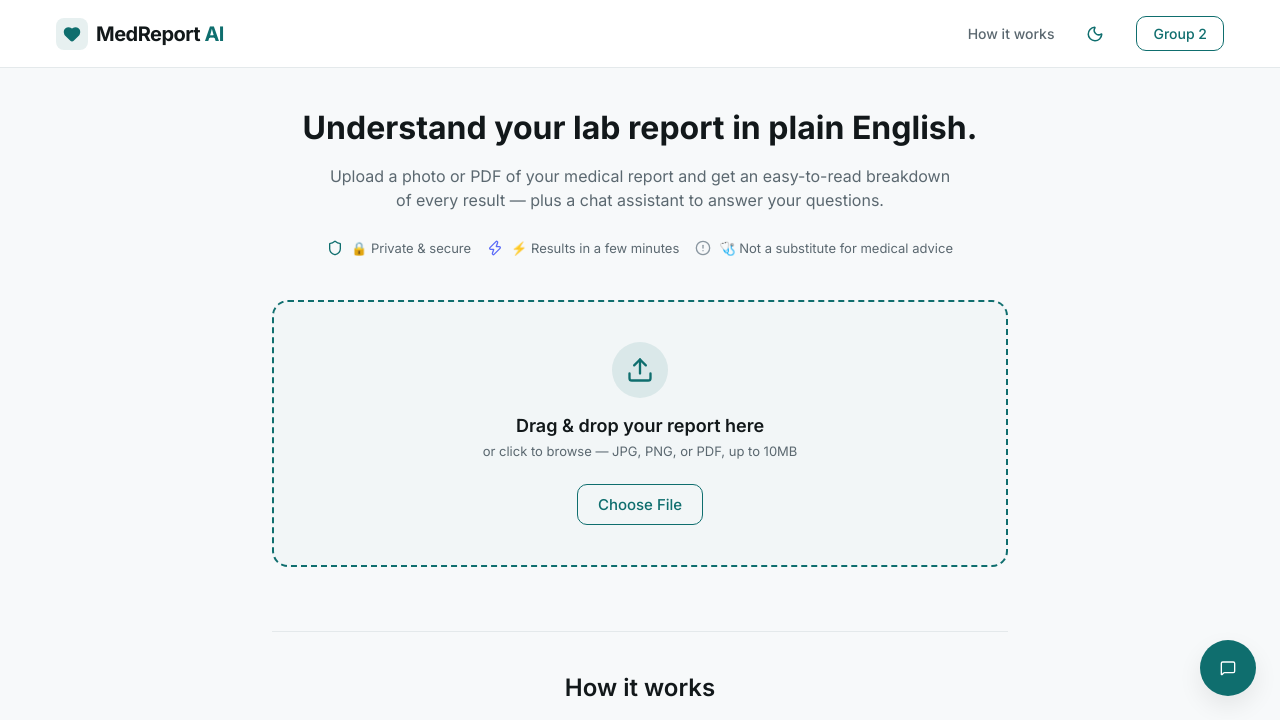
Test: Group 2 header button › closes the modal on Escape
Click the button "Group 2". click: {"x": 1180, "y": 34}
box: [1136, 16, 1224, 51]
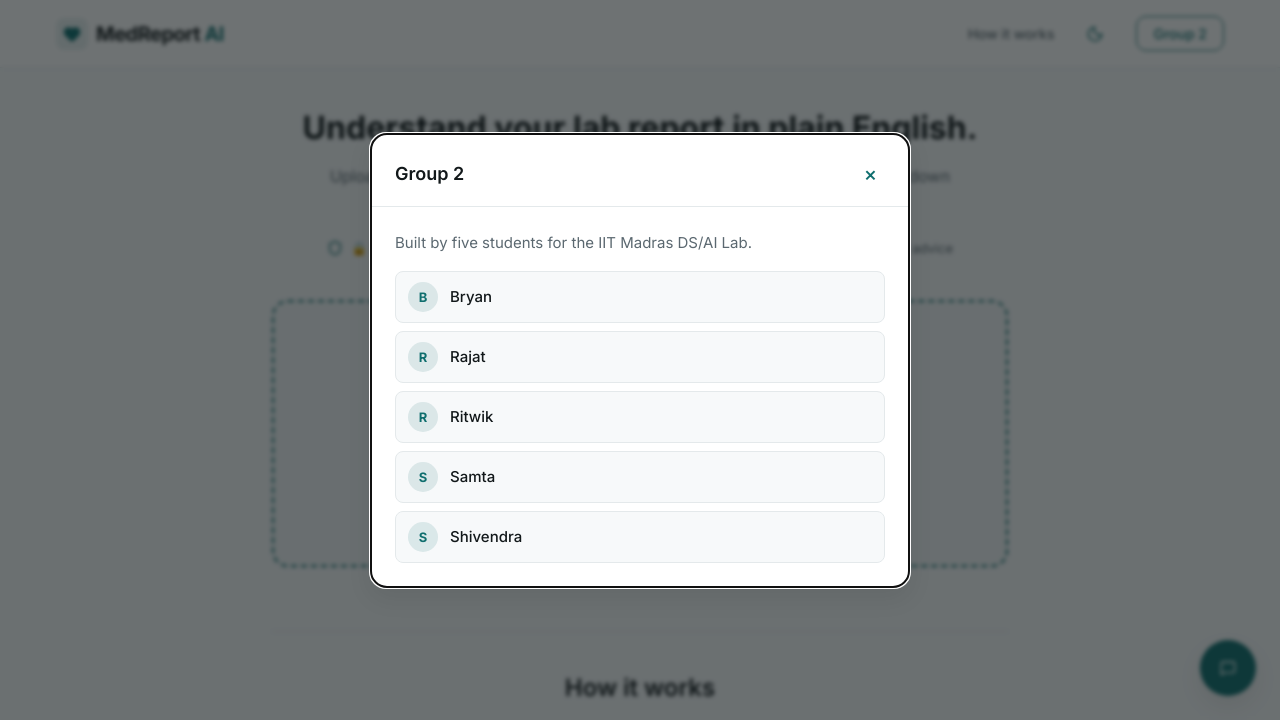
expect the list with test id "group-members" is shown: met, box [395, 270, 885, 562]
Press Escape
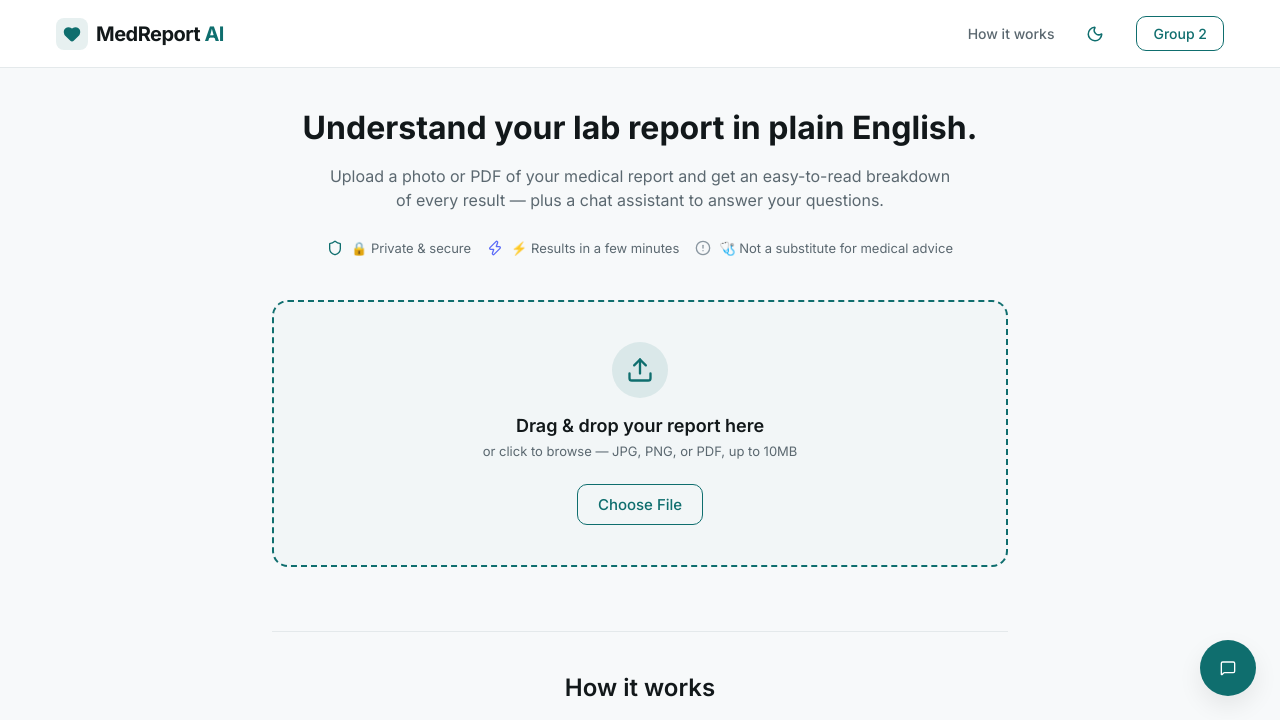
expect the list with test id "group-members" is gone: met
